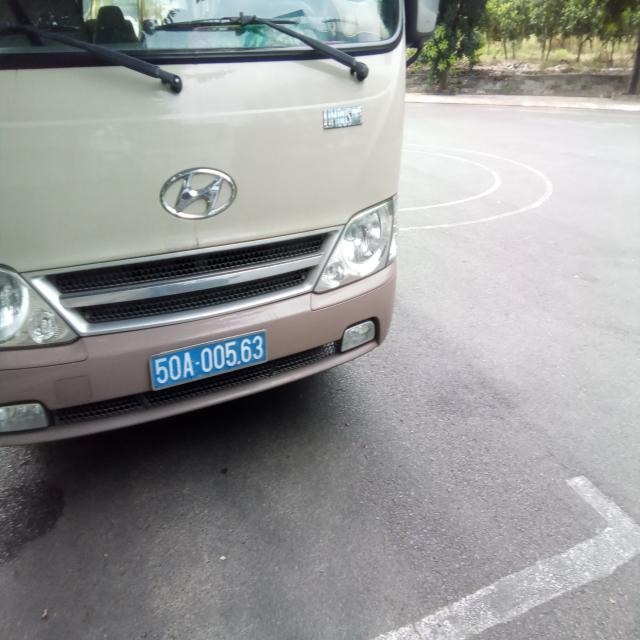bien_xanh: (147, 325, 266, 389)
